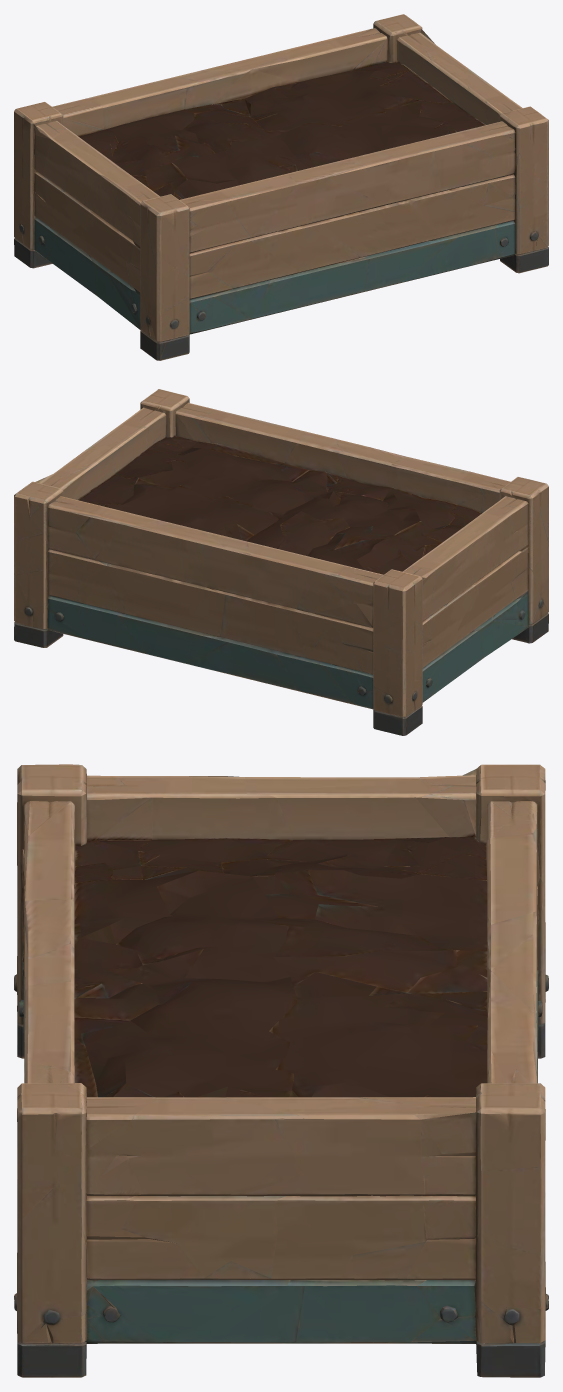
The model's file is vegetableBed.glb.
3 renders of one model, top to bottom at view 1: azimuth 30°, elevation 25°; view 2: azimuth 150°, elevation 25°; view 3: azimuth 270°, elevation 25°, orthographic. The views are drawn at different scales.
Parts seen in each view (by area): view 1: Mesh_0; view 2: Mesh_0; view 3: Mesh_0.
Part boxes in pixels (x1=…): Mesh_0: x1=14, y1=14, x2=548, y2=360; Mesh_0: x1=14, y1=389, x2=548, y2=735; Mesh_0: x1=14, y1=764, x2=548, y2=1377.
Size of the model in its own units: 1.2 by 0.4306 by 0.7768.
Materials: 1 (1 with a texture image).
